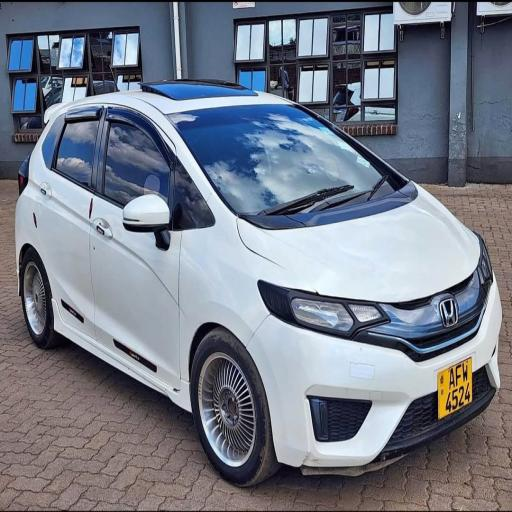number-plates: (438, 360, 478, 412)
